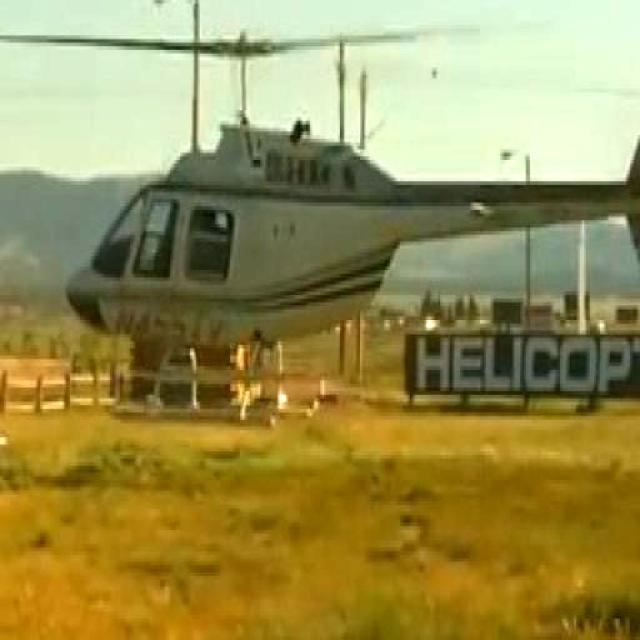drone: (0, 18, 640, 432)
